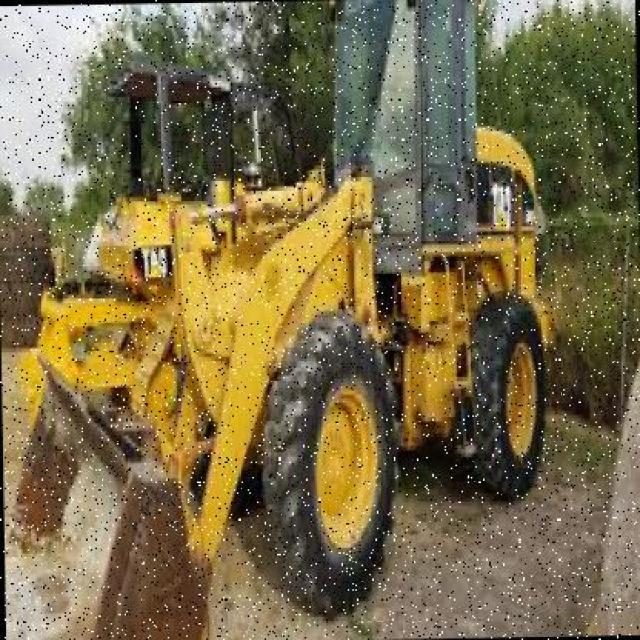buldozerpayloadergrader: (0, 5, 557, 637)
